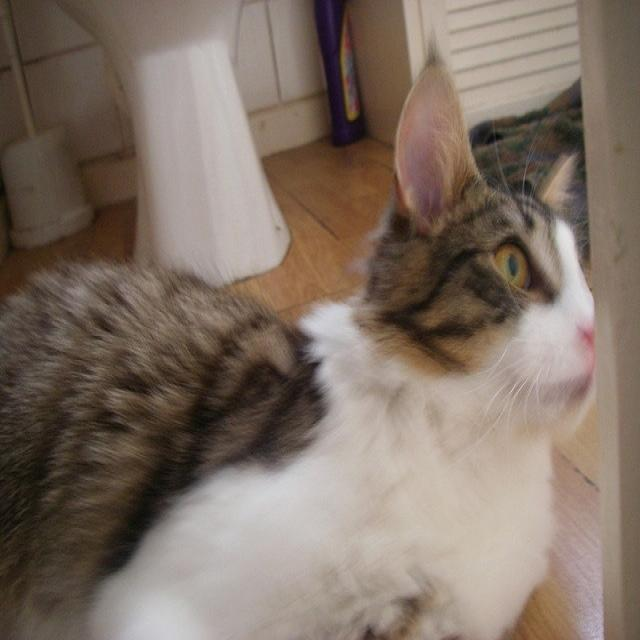cat: (0, 28, 603, 640)
